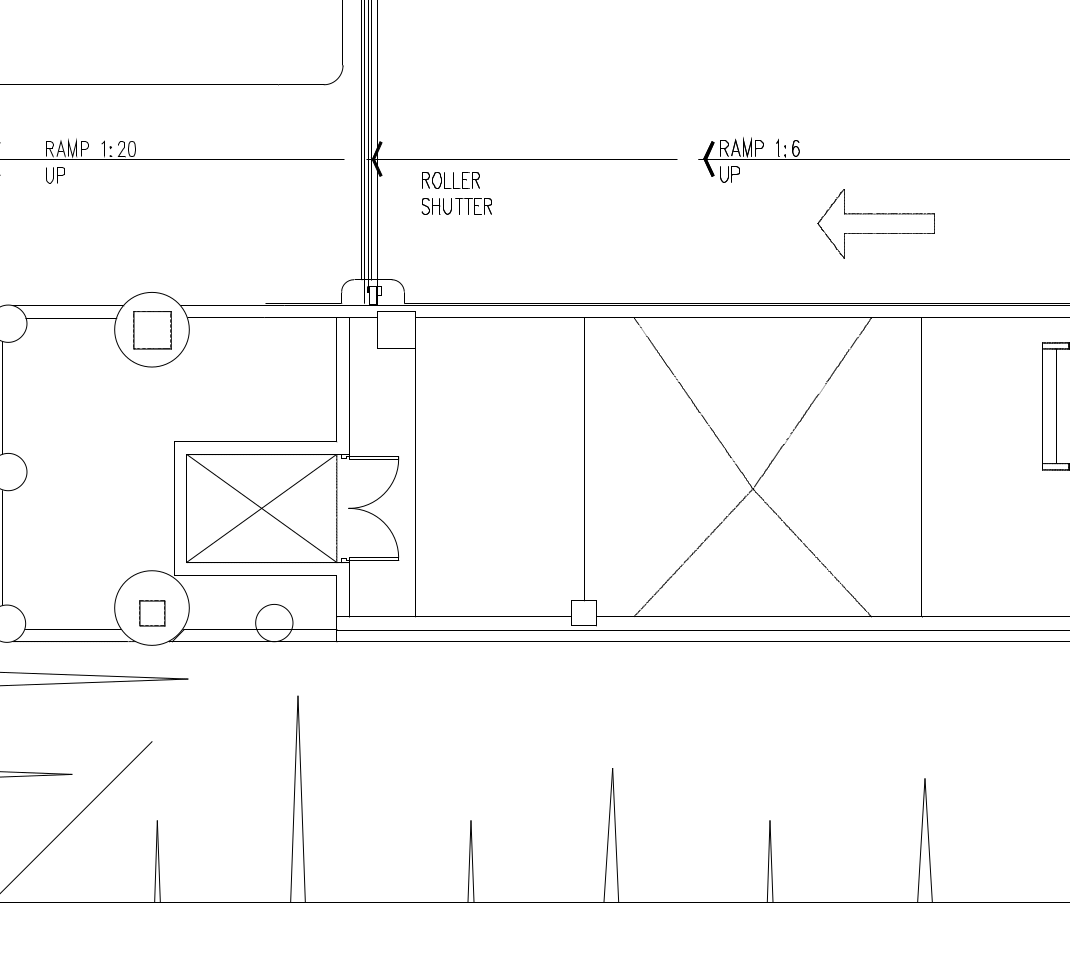door: (345, 454, 413, 565)
